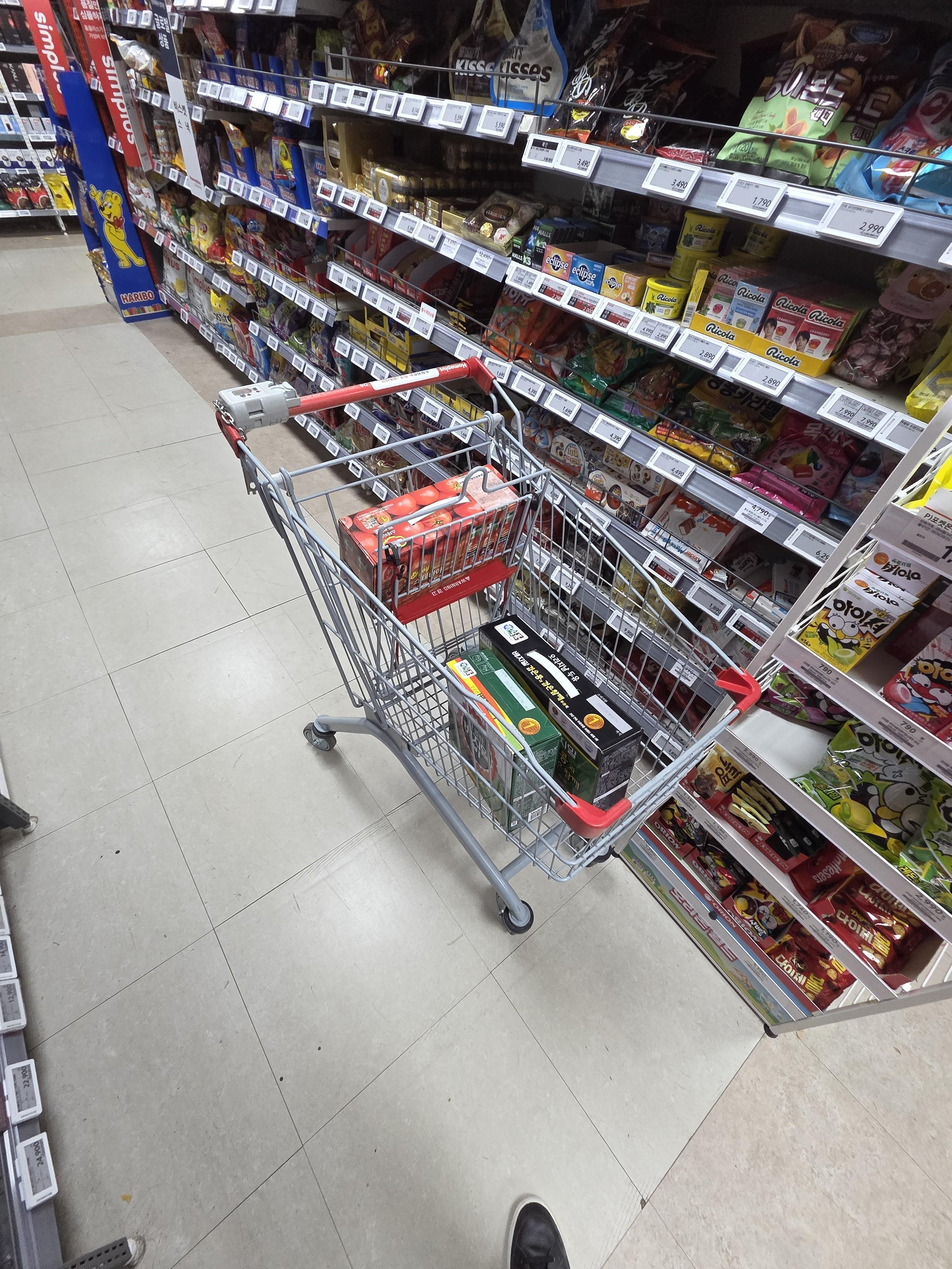fully_cart: (187, 332, 768, 969)
